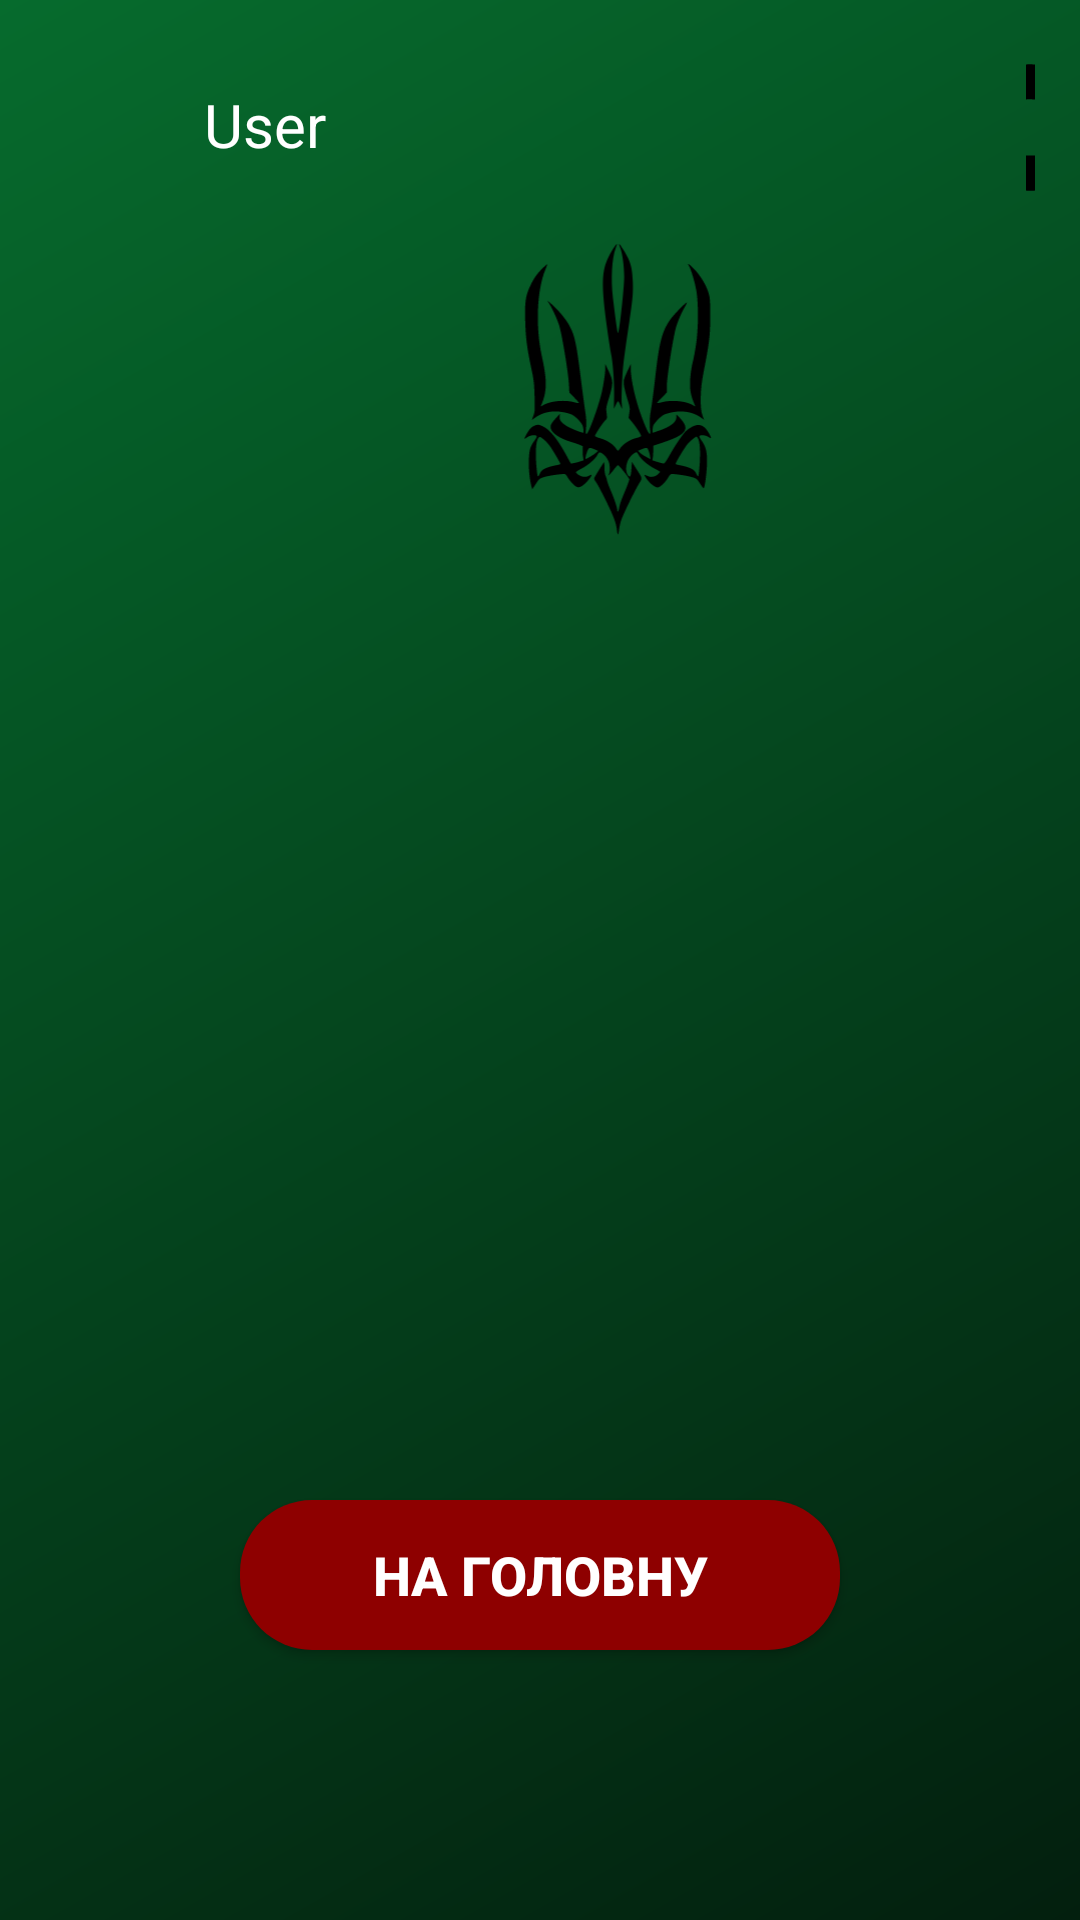

Locate icon controls on the screen. Image size 1080px×1920px, boxes as (x1, y1, x2, y2).
trident: (524, 245, 711, 534)
